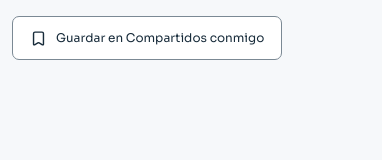
Test: Incoming shared links › saves an incoming analysis only after an explicit click
Click the button "Guardar en Compartidos conmigo" at (147, 38), box [12, 16, 282, 60]
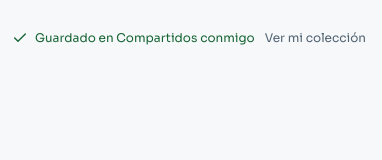
Result: the message reads "Guardado en Compartidos conmigo" at [35, 30, 255, 45]
